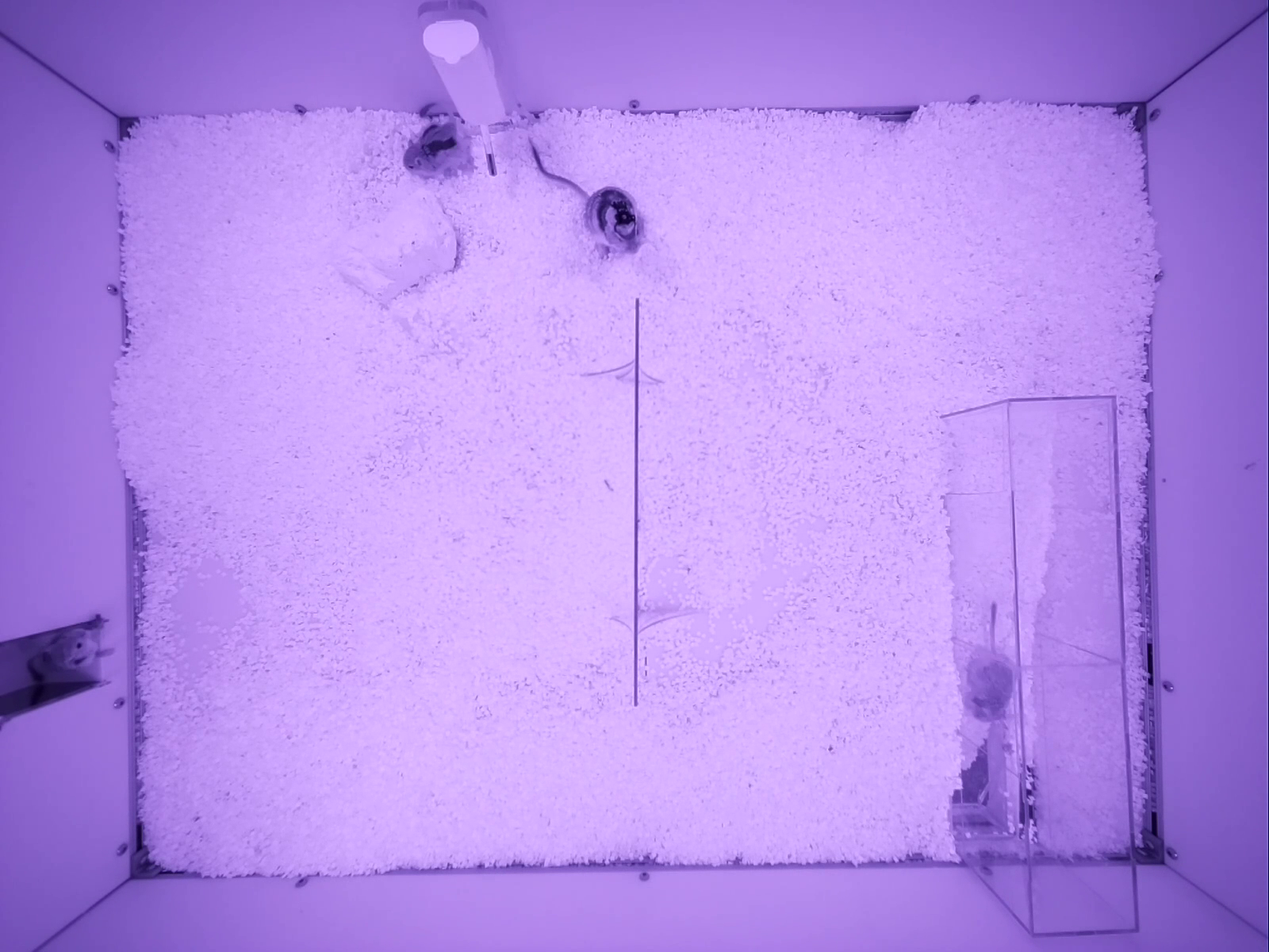adult_back: (531, 141, 642, 251), (404, 104, 473, 178), (964, 649, 1014, 721)
